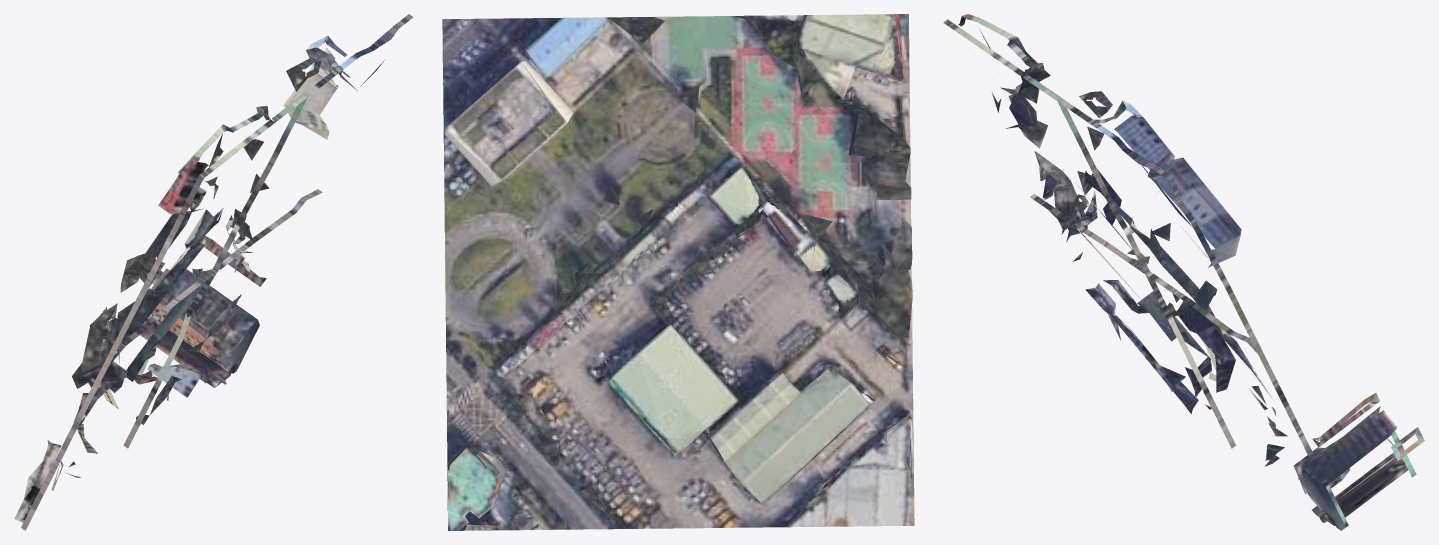
The picture shows the model from 3 angles, left to right: view 1: azimuth 30°, elevation 25°; view 2: azimuth 150°, elevation 25°; view 3: azimuth 270°, elevation 25°; orthographic projection. The views are drawn at different scales.
Size of the model in its own units: 153 by 145 by 153.
Materials: 2 (2 with a texture image).
